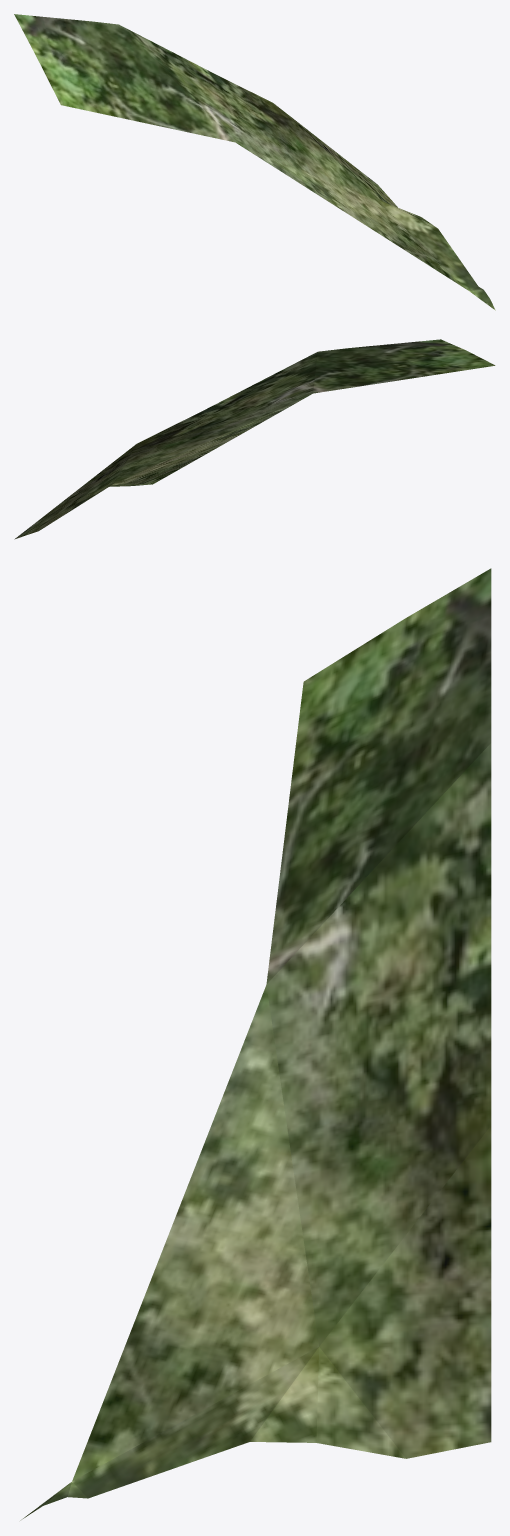
3 renders of one model, top to bottom at view 1: azimuth 30°, elevation 25°; view 2: azimuth 150°, elevation 25°; view 3: azimuth 270°, elevation 25°, orthographic. The views are drawn at different scales.
Bounding box in the file's own units: 2.95 × 2.32 × 1.66.
1 material, 1 textured.
